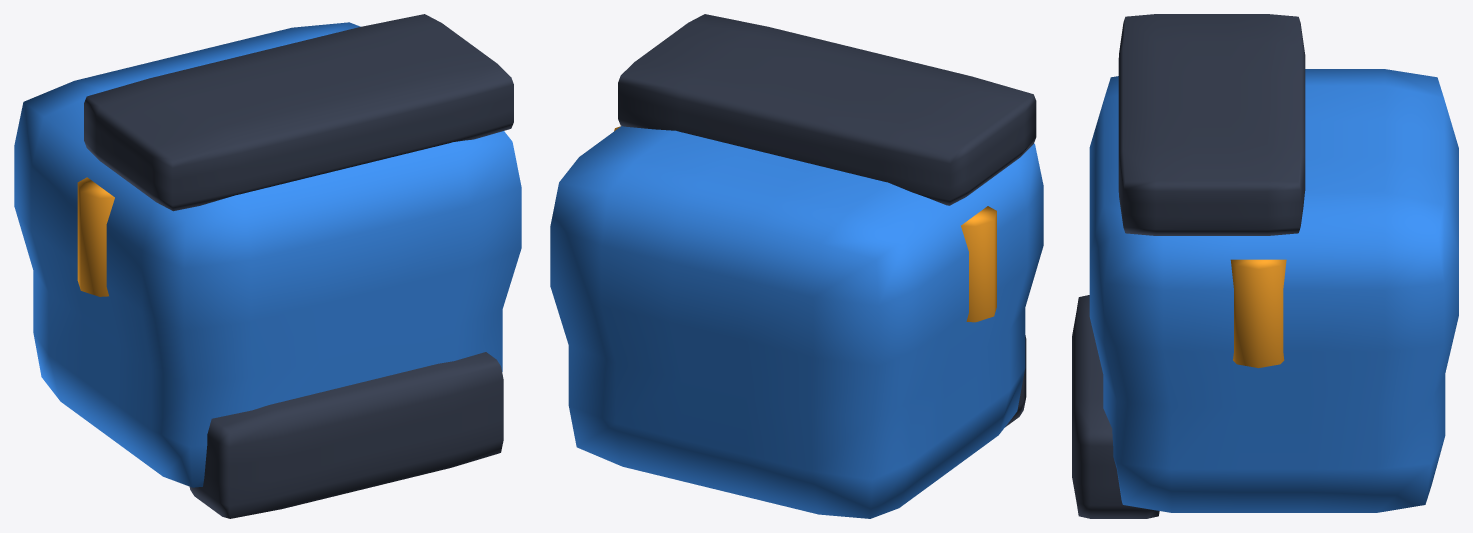
The model's file is head_overlord.obj.
The picture shows the model from 3 angles, left to right: view 1: azimuth 30°, elevation 25°; view 2: azimuth 150°, elevation 25°; view 3: azimuth 270°, elevation 25°; orthographic projection. The views are drawn at different scales.
Bounding box in the file's own units: 0.58 × 0.515 × 0.4976.
